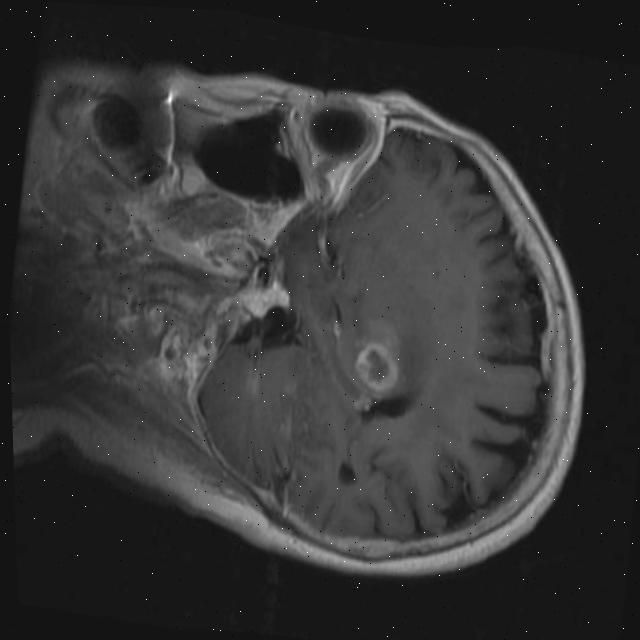Glioma: (347, 338, 402, 394)
